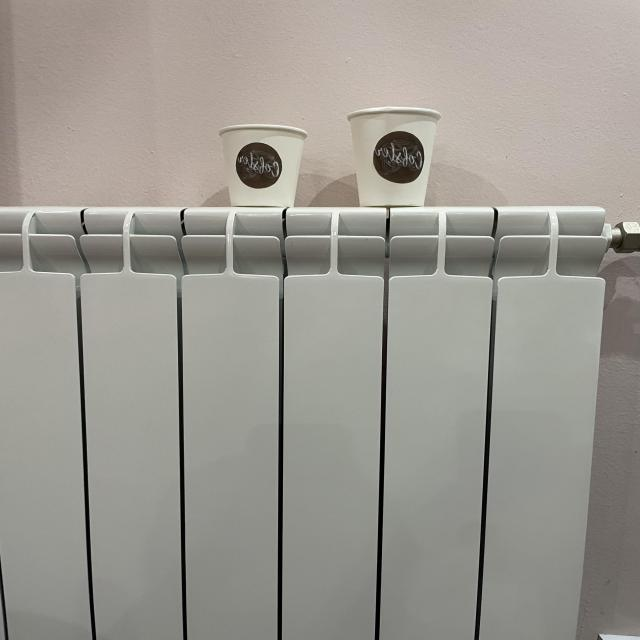big: (336, 94, 449, 214)
medium: (212, 116, 308, 213)
